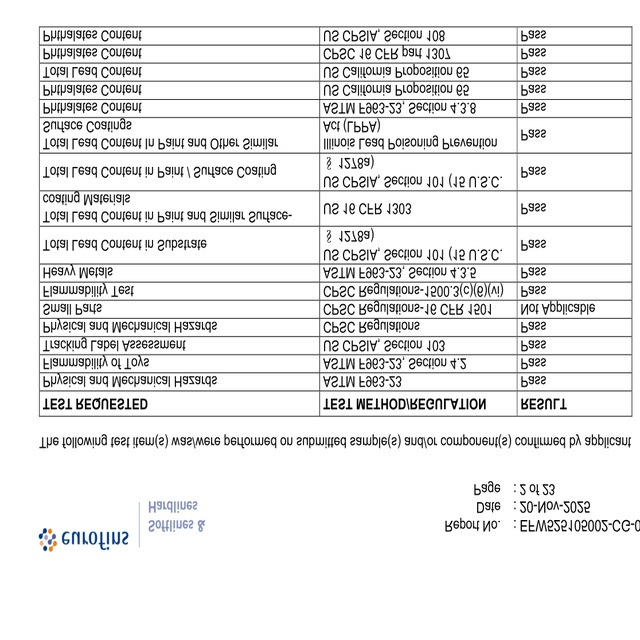eurofins: (31, 522, 133, 557)
